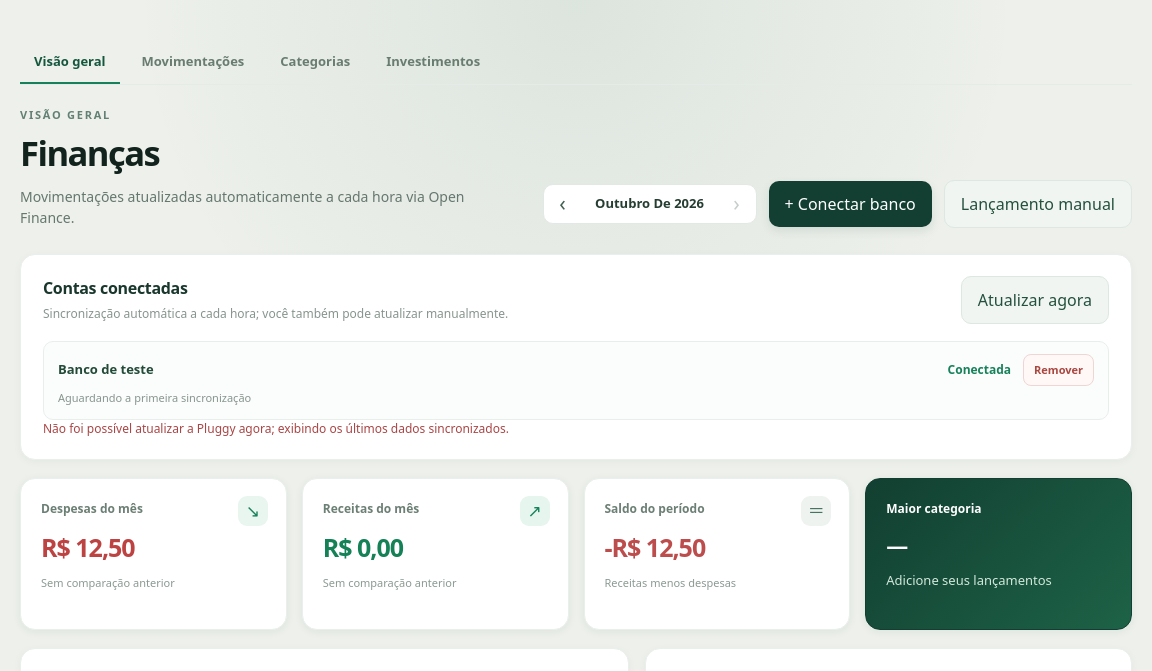
Test: preserves the successful sync status when the follow-up dashboard is stale
The width and height of the screenshot is (1152, 671).
Click the button "Atualizar agora" at (1035, 300), box x1=961 y1=276 x2=1109 y2=324
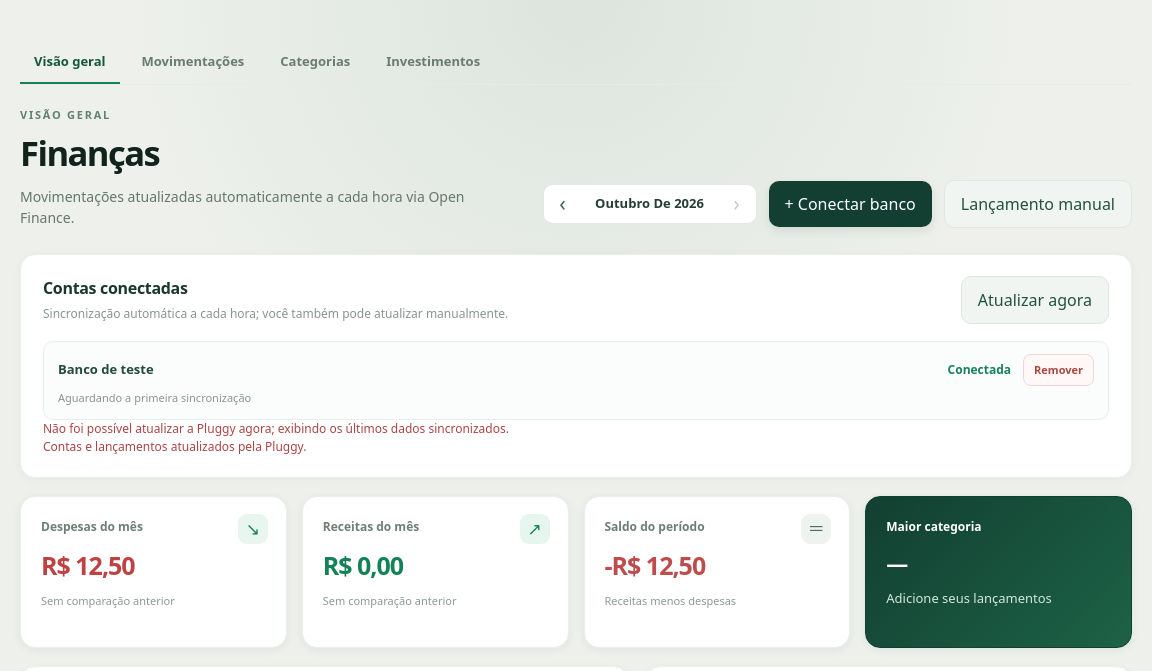
Expected: the text "Não foi possível atualizar a Pluggy agora" is shown, x1=43 y1=420 x2=509 y2=437
Now the text "Contas e lançamentos atualizados pela Pluggy." is shown, box x1=43 y1=438 x2=306 y2=455
